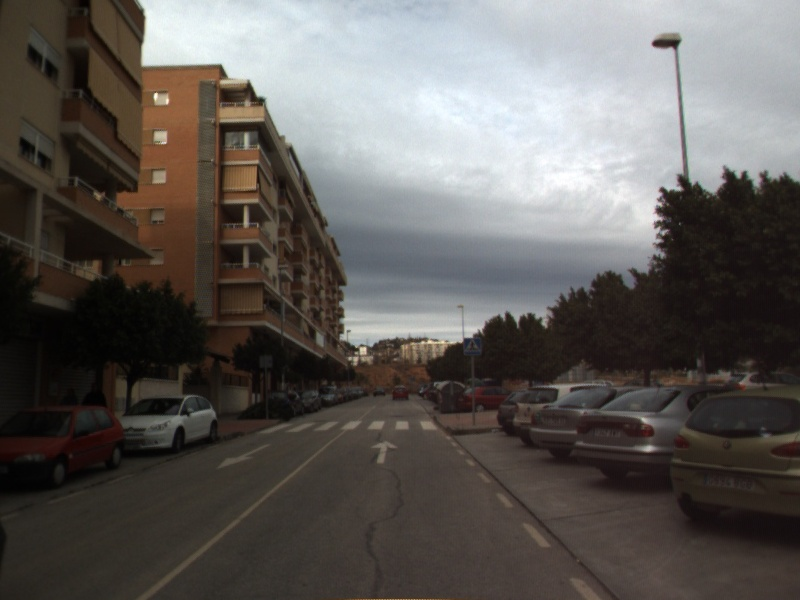STRAIGHT: (369, 438, 400, 466)
